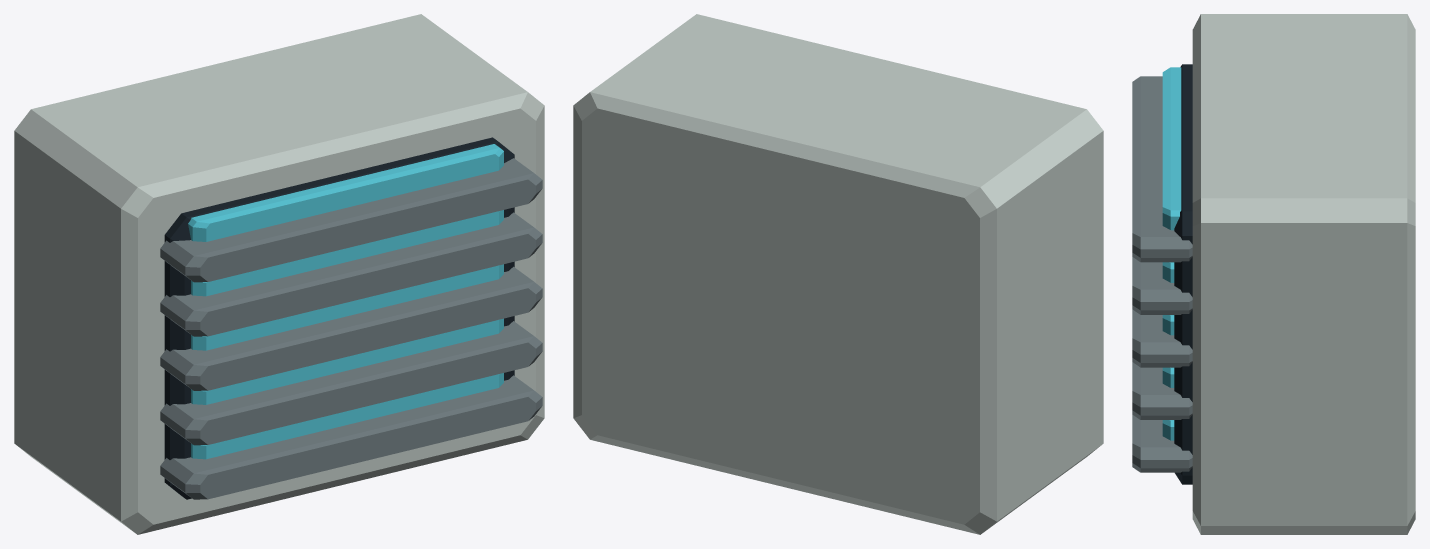
Rendered from boss_cold_vent.glb.
The picture shows the model from 3 angles, left to right: view 1: azimuth 30°, elevation 25°; view 2: azimuth 150°, elevation 25°; view 3: azimuth 270°, elevation 25°; orthographic projection. The views are drawn at different scales.
Parts seen in each view (by area): view 1: boss_cold_vent; view 2: boss_cold_vent; view 3: boss_cold_vent.
Boxes of the visible parts, x1,y1,x2,y2 form: boss_cold_vent: (14,14,544,534); boss_cold_vent: (573,14,1103,534); boss_cold_vent: (1132,14,1415,534).
Size of the model in its own units: 2.04 by 1.6 by 1.22.
